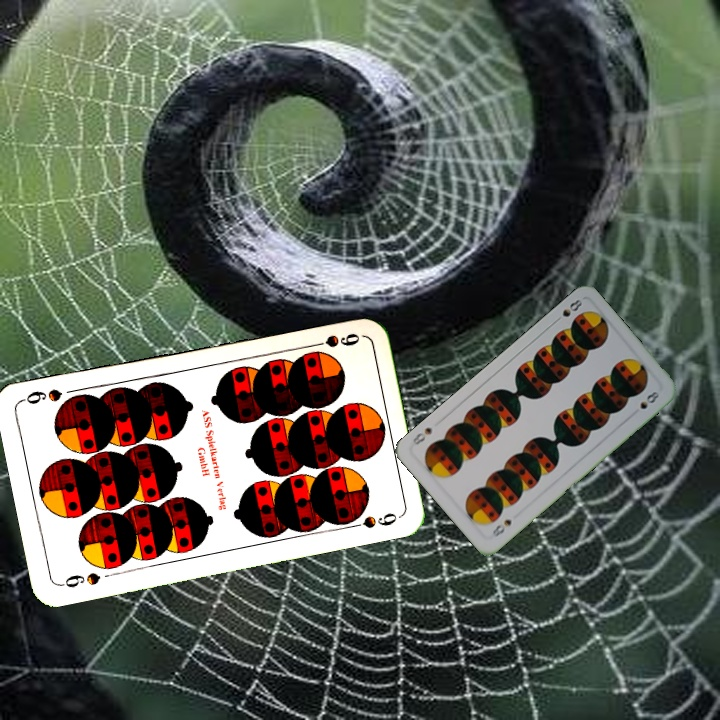S8: (550, 295, 585, 326), (487, 515, 514, 541)
S9: (304, 329, 363, 351), (56, 568, 103, 590)
